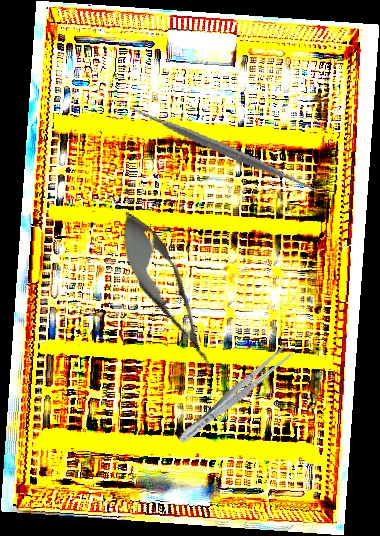Dressing Forceps: (174, 342, 296, 448)
Micro Scissor: (105, 202, 231, 382)
Spatula Surgical: (126, 52, 320, 245)
